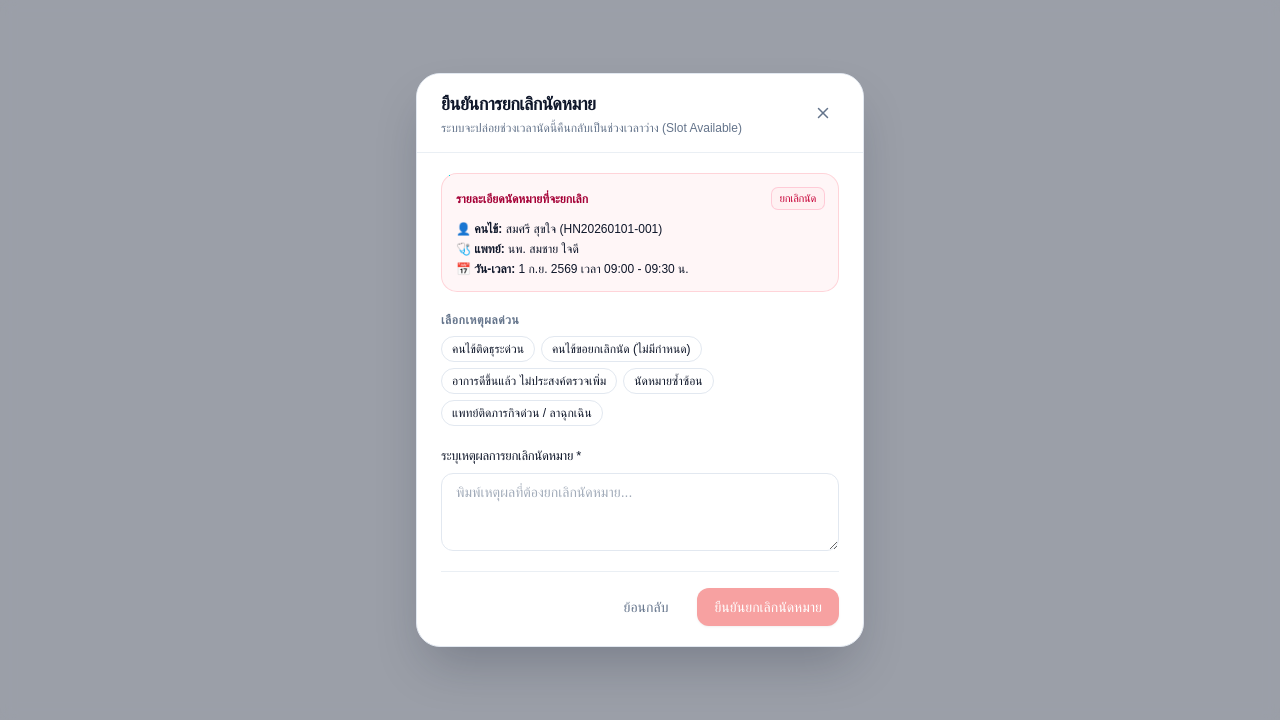
CancelAppointmentModal › renders patient and doctor details when open
Check: the heading "ยืนยันการยกเลิกนัดหมาย" is shown, box [441,94,596,114]
Check: the text "👤 คนไข้: สมศรี สุขใจ (HN20260101-001)" is shown, box [456,222,662,236]
What coordinates should you click on to do the following:
click the button "คนไข้ติดธุระด่วน"
I would click on:
 (488, 350)
Its box is [441,336,535,362].
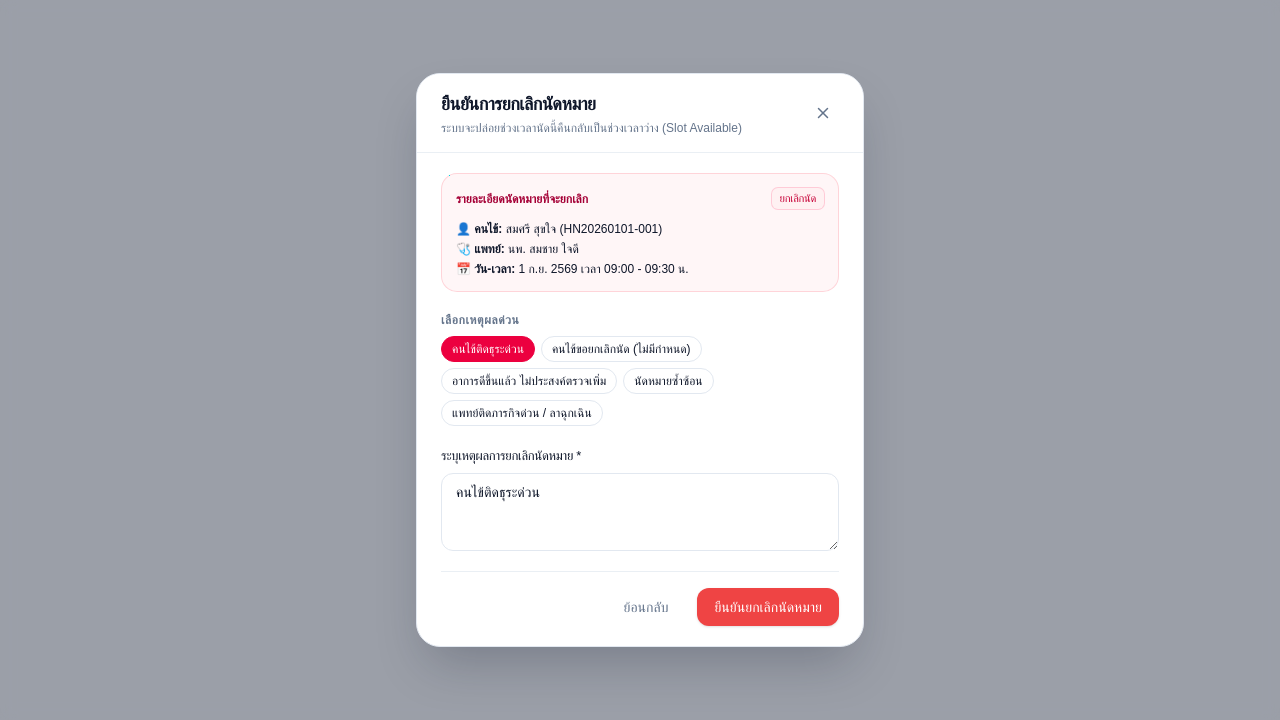
Check: the text box with placeholder "พิมพ์เหตุผลที่ต้องยกเลิกนัดหมาย..." holds "คนไข้ติดธุระด่วน", box [441,473,839,551]
